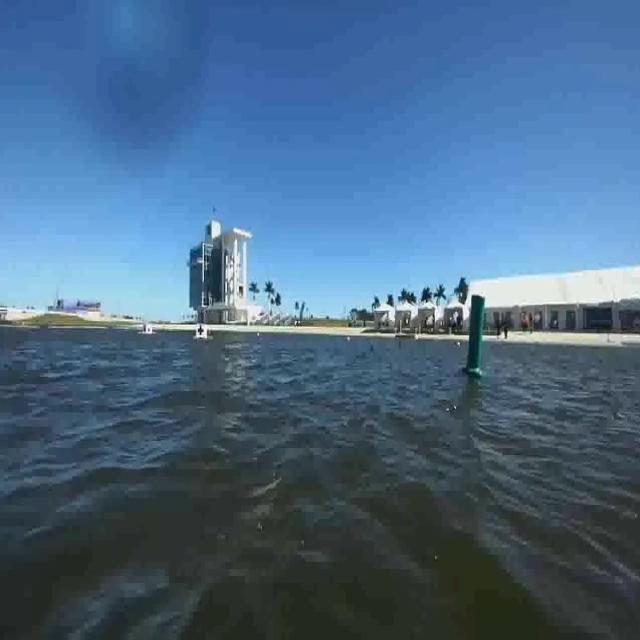green-column-buoy: (462, 293, 488, 380)
